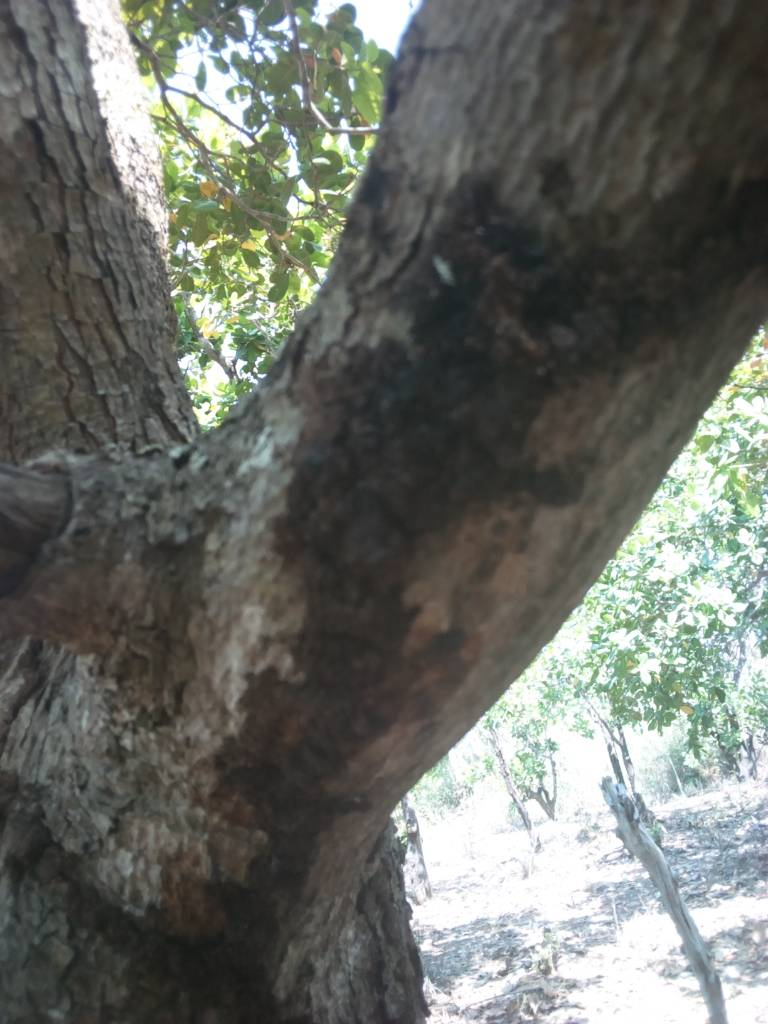Termites: (293, 317, 535, 772)
